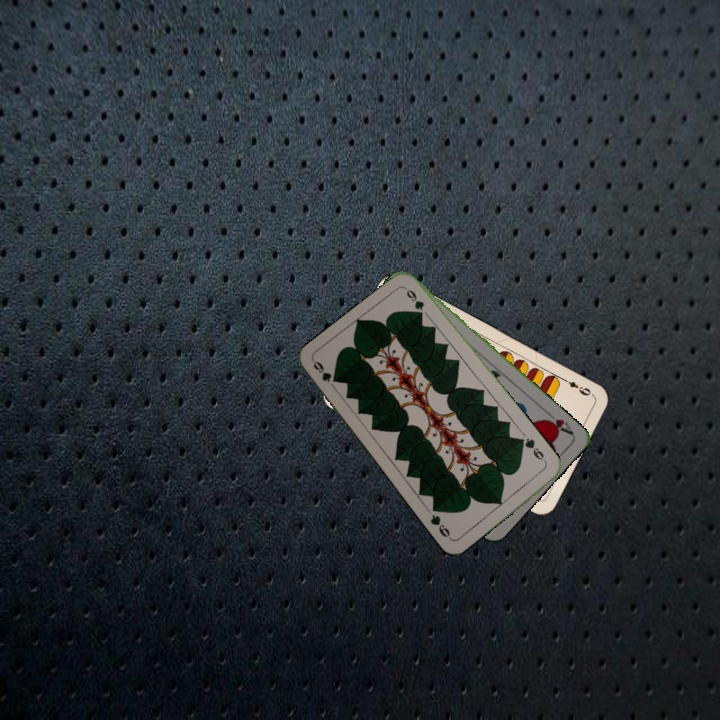E9: (558, 374, 596, 399)
G9: (517, 433, 549, 466), (309, 357, 340, 385)
HA: (540, 407, 576, 438)
